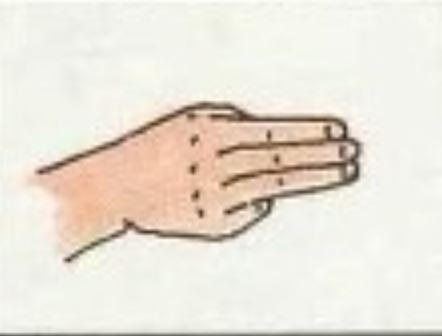리을: (37, 77, 366, 268)
